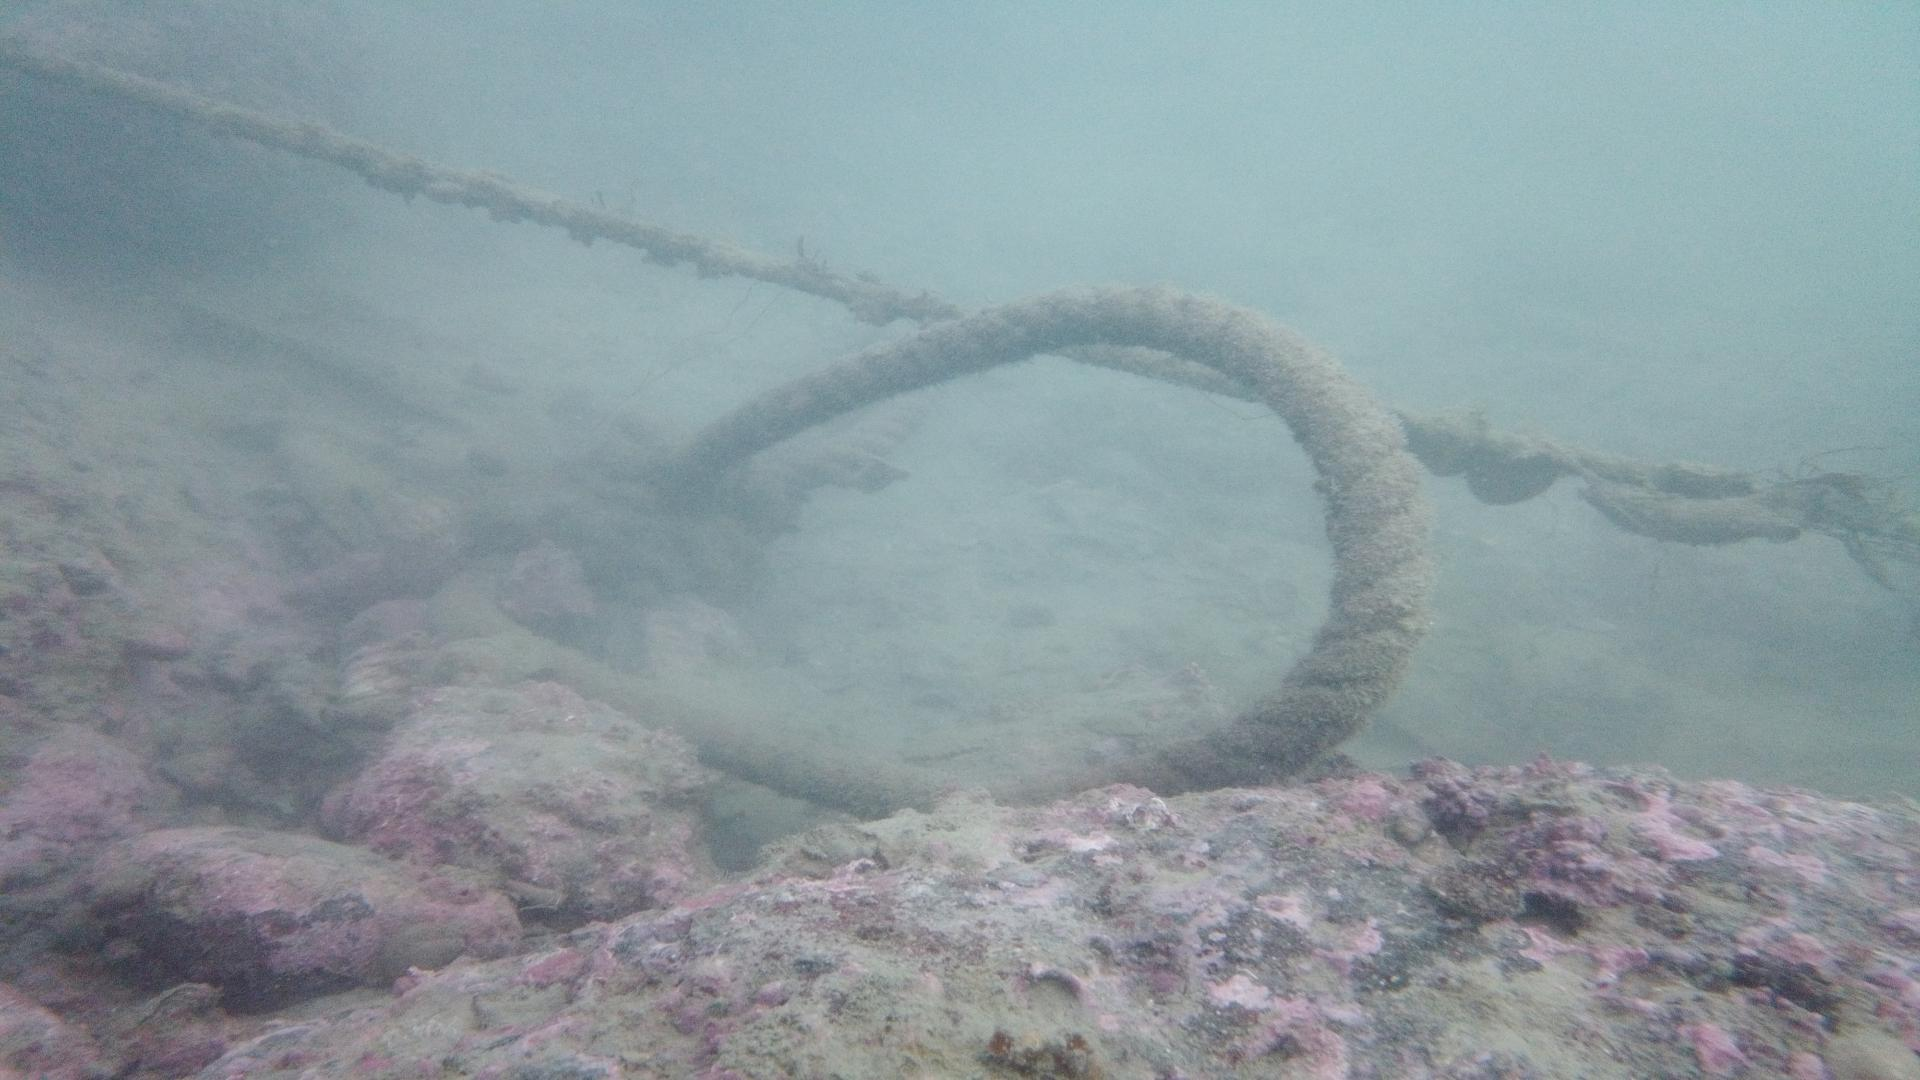rope: (0, 28, 1920, 549), (522, 281, 1447, 820)
